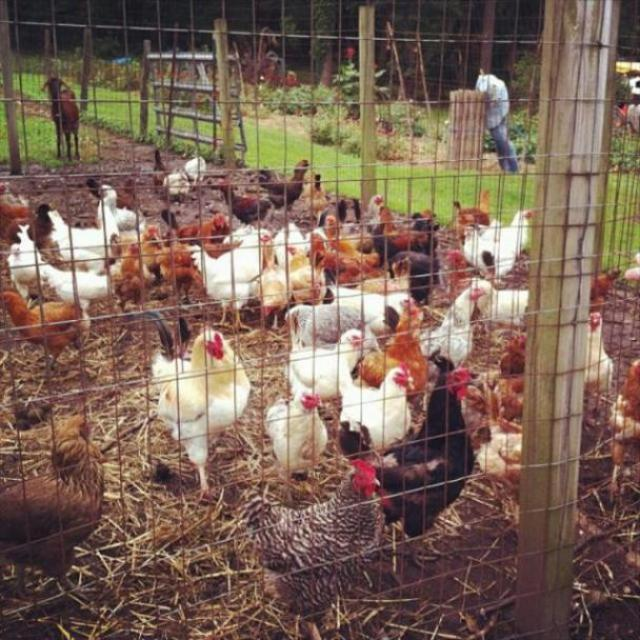Chicken: (248, 460, 383, 615), (144, 318, 254, 487), (0, 413, 104, 590), (266, 386, 331, 500), (291, 325, 363, 392), (610, 361, 639, 504), (168, 167, 191, 202), (153, 149, 165, 191)
